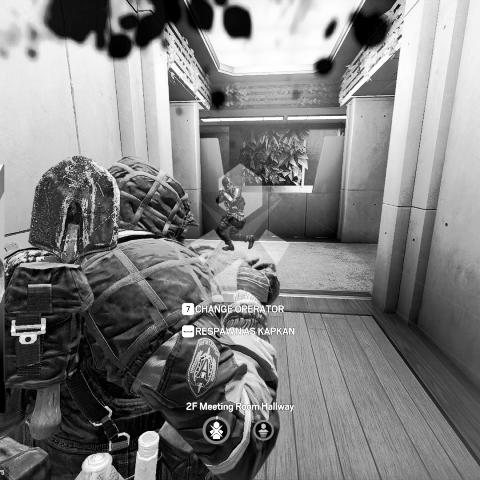Character: (0, 153, 283, 479), (215, 176, 257, 253)
Head: (103, 155, 195, 248), (220, 177, 232, 190)
